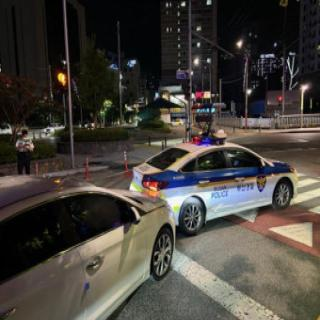Police_car: (128, 134, 302, 234)
